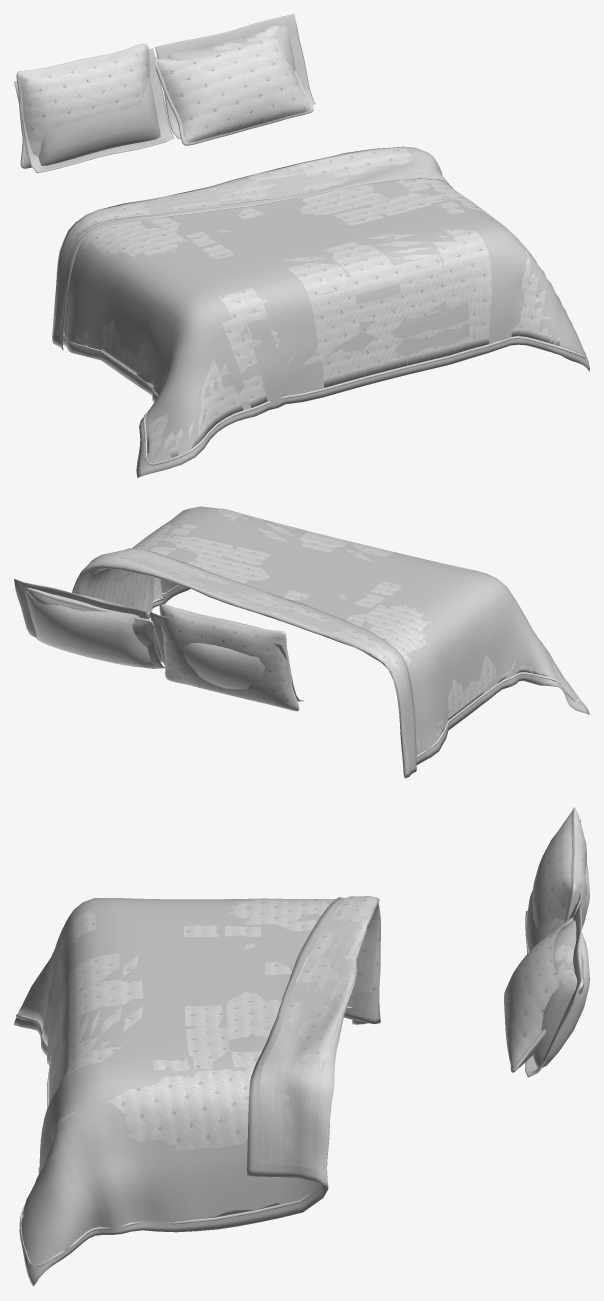
The model's file is quilt.gltf.
3 renders of one model, top to bottom at view 1: azimuth 30°, elevation 25°; view 2: azimuth 150°, elevation 25°; view 3: azimuth 270°, elevation 25°, orthographic. The views are drawn at different scales.
Visible parts, largest first — view 1: quilt-stripes, quilt-bliss, quilt-bliss-pillowcase02, quilt-bliss-pillowcase01, quilt-stripes-trim, quilt-bliss-back, quilt-stripes-back, quilt-stripes-pillowcase01, quilt-stripes-pillowcase02-trim, quilt-bliss-trim, quilt-stripes-pillowcase01-trim, quilt-stripes-pillowcase02 (+2 smaller); view 2: quilt-stripes, quilt-bliss, quilt-bliss-pillowcase01, quilt-bliss-back, quilt-stripes-pillowcase02-static, quilt-stripes-back, quilt-stripes-trim, quilt-stripes-pillowcase01-static, quilt-stripes-pillowcase02-trim, quilt-bliss-pillowcase02, quilt-bliss-pillowcase01-trim, quilt-bliss-trim (+2 smaller); view 3: quilt-stripes, quilt-bliss, quilt-stripes-back, quilt-stripes-trim, quilt-bliss-back, quilt-bliss-pillowcase02, quilt-bliss-pillowcase01, quilt-stripes-pillowcase02, quilt-bliss-trim, quilt-stripes-pillowcase02-static, quilt-stripes-pillowcase02-trim, quilt-stripes-pillowcase01 (+1 smaller).
Boxes of the visible parts, x1=… form: quilt-stripes: x1=64, y1=179, x2=586, y2=465; quilt-bliss: x1=63, y1=179, x2=561, y2=457; quilt-bliss-pillowcase02: x1=156, y1=25, x2=311, y2=142; quilt-bliss-pillowcase01: x1=20, y1=46, x2=148, y2=166; quilt-stripes-trim: x1=52, y1=172, x2=589, y2=477; quilt-bliss-back: x1=52, y1=147, x2=412, y2=336; quilt-stripes-back: x1=53, y1=146, x2=443, y2=336; quilt-stripes-pillowcase01: x1=38, y1=76, x2=160, y2=165; quilt-stripes-pillowcase02-trim: x1=155, y1=14, x2=315, y2=138; quilt-bliss-trim: x1=60, y1=179, x2=585, y2=465; quilt-stripes-pillowcase01-trim: x1=14, y1=48, x2=174, y2=173; quilt-stripes-pillowcase02: x1=167, y1=26, x2=295, y2=71; quilt-stripes: x1=148, y1=506, x2=580, y2=755; quilt-bliss: x1=132, y1=509, x2=573, y2=747; quilt-bliss-pillowcase01: x1=161, y1=607, x2=295, y2=709; quilt-bliss-back: x1=75, y1=554, x2=410, y2=768; quilt-stripes-pillowcase02-static: x1=24, y1=588, x2=153, y2=668; quilt-stripes-back: x1=72, y1=548, x2=411, y2=768; quilt-stripes-trim: x1=138, y1=548, x2=589, y2=778; quilt-stripes-pillowcase01-static: x1=160, y1=621, x2=264, y2=689; quilt-stripes-pillowcase02-trim: x1=14, y1=579, x2=165, y2=668; quilt-bliss-pillowcase02: x1=28, y1=591, x2=162, y2=662; quilt-bliss-pillowcase01-trim: x1=159, y1=604, x2=299, y2=711; quilt-bliss-trim: x1=148, y1=584, x2=580, y2=757; quilt-stripes: x1=17, y1=898, x2=322, y2=1268; quilt-bliss: x1=18, y1=898, x2=335, y2=1227; quilt-stripes-back: x1=257, y1=900, x2=379, y2=1176; quilt-stripes-trim: x1=14, y1=897, x2=380, y2=1286; quilt-bliss-back: x1=283, y1=896, x2=380, y2=1176; quilt-bliss-pillowcase02: x1=504, y1=917, x2=584, y2=1068; quilt-bliss-pillowcase01: x1=532, y1=811, x2=587, y2=928; quilt-stripes-pillowcase02: x1=533, y1=919, x2=576, y2=1067; quilt-bliss-trim: x1=16, y1=896, x2=351, y2=1266; quilt-stripes-pillowcase02-static: x1=541, y1=932, x2=589, y2=1068; quilt-stripes-pillowcase02-trim: x1=525, y1=904, x2=581, y2=1077; quilt-stripes-pillowcase01: x1=526, y1=890, x2=574, y2=951.
Size of the model in its own units: 1.63 by 0.7708 by 1.48.
